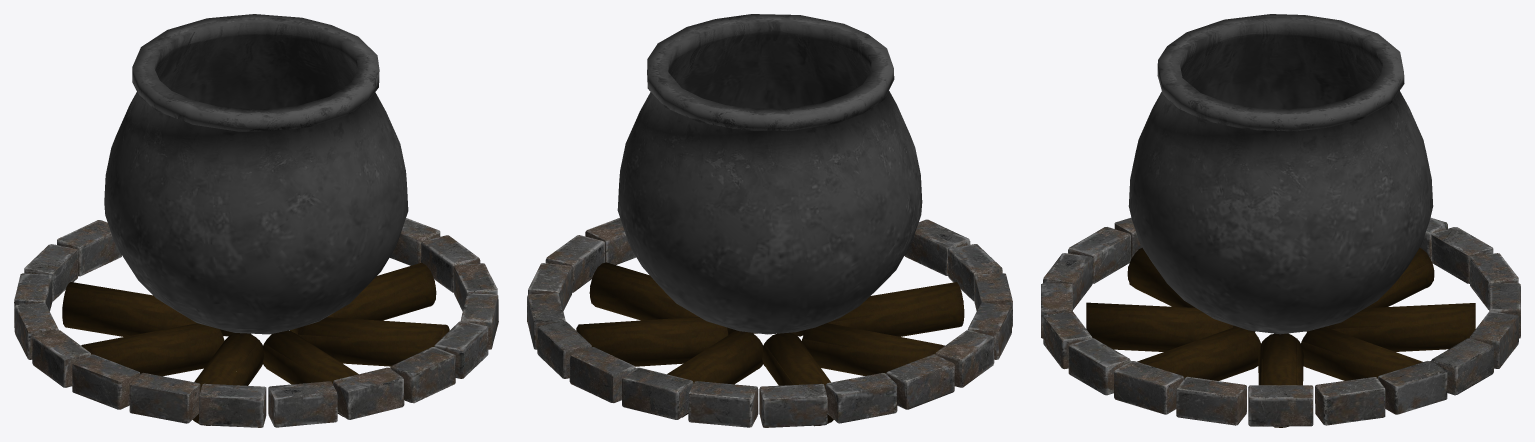
The model's file is cauldron_wax.glb.
3 renders of one model, left to right at view 1: azimuth 30°, elevation 25°; view 2: azimuth 150°, elevation 25°; view 3: azimuth 270°, elevation 25°, orthographic.
Visible parts, largest first — view 1: Cauldron_Cauldron_0, Bricks_Stone_0, Logs_Drova_0; view 2: Cauldron_Cauldron_0, Bricks_Stone_0, Logs_Drova_0; view 3: Cauldron_Cauldron_0, Bricks_Stone_0, Logs_Drova_0.
Boxes of the visible parts, box(x1,y1,x2,y2) form: Cauldron_Cauldron_0: box(104, 14, 408, 334); Bricks_Stone_0: box(14, 218, 498, 427); Logs_Drova_0: box(62, 262, 449, 425); Cauldron_Cauldron_0: box(617, 14, 922, 334); Bricks_Stone_0: box(527, 218, 1012, 427); Logs_Drova_0: box(576, 262, 964, 426); Cauldron_Cauldron_0: box(1128, 14, 1433, 334); Bricks_Stone_0: box(1041, 218, 1520, 426); Logs_Drova_0: box(1086, 247, 1475, 427).
Bounding box in the file's own units: 310 × 204 × 309.
3 materials, 3 textured.
